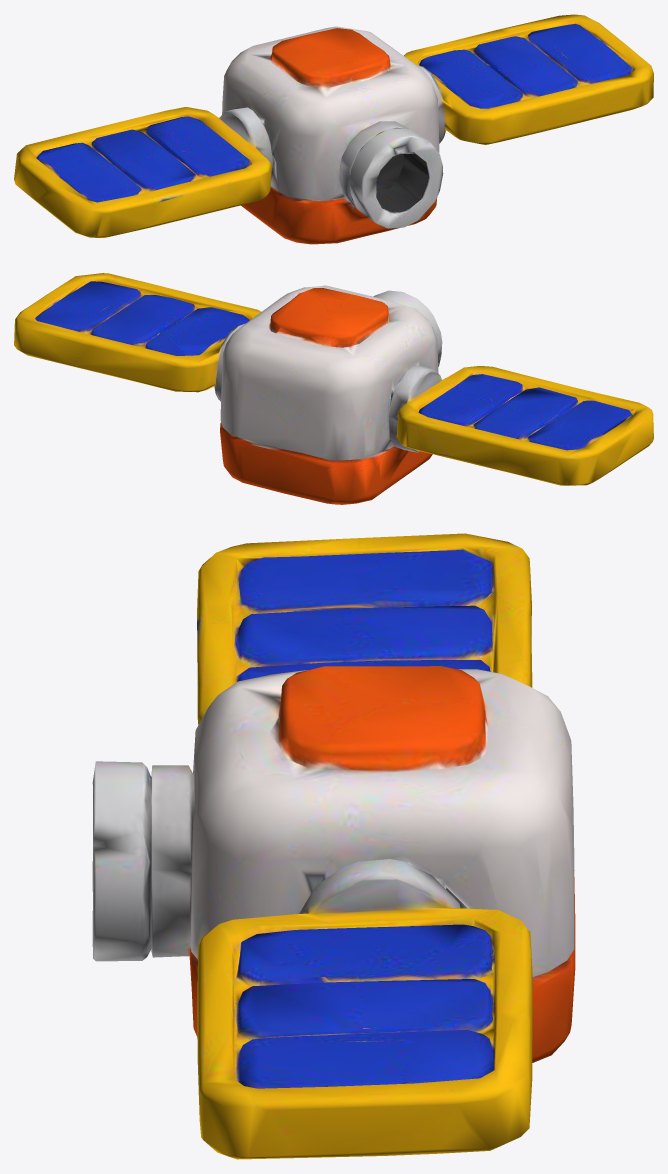
Rendered from solar.glb.
3 views of the same model, one above another, from view 1: azimuth 30°, elevation 25°; view 2: azimuth 150°, elevation 25°; view 3: azimuth 270°, elevation 25° (orthographic). The views are drawn at different scales.
Parts seen in each view (by area): view 1: tripo_node_116f1dd8-c4fc-4e11-85dc-ceaf5e16a16d; view 2: tripo_node_116f1dd8-c4fc-4e11-85dc-ceaf5e16a16d; view 3: tripo_node_116f1dd8-c4fc-4e11-85dc-ceaf5e16a16d.
Part boxes in pixels (x1,y1,x2,y2): tripo_node_116f1dd8-c4fc-4e11-85dc-ceaf5e16a16d: (14,14,653,244); tripo_node_116f1dd8-c4fc-4e11-85dc-ceaf5e16a16d: (14,273,653,504); tripo_node_116f1dd8-c4fc-4e11-85dc-ceaf5e16a16d: (92,533,575,1159).
Size of the model in its own units: 0.9789 by 0.2444 by 0.3534.
Materials: 1 (1 with a texture image).
